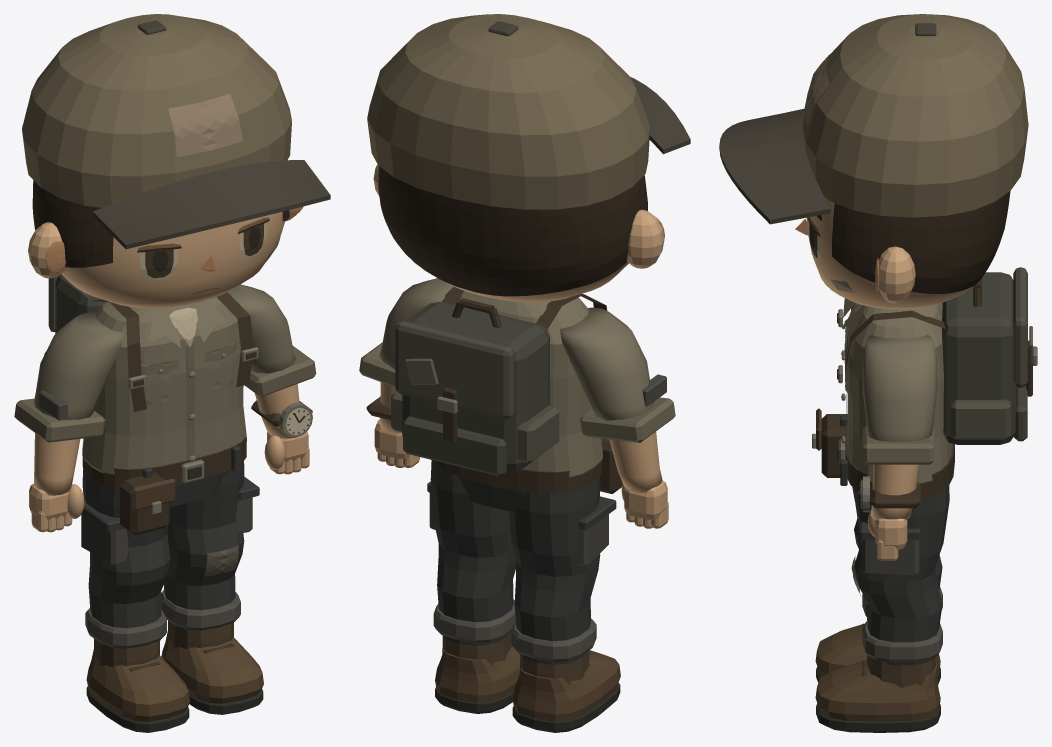
Rendered from CompactSurvivor.glb.
3 views of the same model, side by side, from view 1: azimuth 30°, elevation 25°; view 2: azimuth 150°, elevation 25°; view 3: azimuth 270°, elevation 25° (orthographic). The views are drawn at different scales.
Parts seen in each view (by area): view 1: Compact_Cap, Compact_Shirt, Compact_Trousers, Compact_Boots, Compact_Head, Compact_Backpack, Compact_Hair, Compact_Hands, Compact_Body, Compact_BeltPouch, Compact_Belt, Compact_FaceDetails (+1 smaller); view 2: Compact_Cap, Compact_Trousers, Compact_Backpack, Compact_Hair, Compact_Shirt, Compact_Boots, Compact_Head, Compact_Hands, Compact_Body, Compact_Belt, Compact_BeltPouch; view 3: Compact_Cap, Compact_Shirt, Compact_Backpack, Compact_Trousers, Compact_Hair, Compact_Boots, Compact_Head, Compact_Body, Compact_BeltPouch, Compact_Belt, Compact_Hands, Compact_Watch (+1 smaller).
Boxes of the visible parts, left/top/right/bottom form: Compact_Cap: left=22, top=14, right=330, bottom=249; Compact_Shirt: left=14, top=284, right=316, bottom=474; Compact_Trousers: left=81, top=445, right=259, bottom=648; Compact_Boots: left=86, top=621, right=263, bottom=732; Compact_Head: left=28, top=206, right=303, bottom=308; Compact_Backpack: left=44, top=274, right=258, bottom=412; Compact_Hair: left=32, top=180, right=289, bottom=267; Compact_Hands: left=29, top=431, right=309, bottom=532; Compact_Body: left=34, top=384, right=299, bottom=495; Compact_BeltPouch: left=120, top=473, right=175, bottom=535; Compact_Belt: left=82, top=436, right=246, bottom=489; Compact_FaceDetails: left=137, top=217, right=280, bottom=294; Compact_Cap: left=367, top=14, right=690, bottom=209; Compact_Trousers: left=427, top=461, right=616, bottom=664; Compact_Backpack: left=391, top=286, right=607, bottom=476; Compact_Hair: left=378, top=166, right=647, bottom=296; Compact_Shirt: left=359, top=278, right=675, bottom=477; Compact_Boots: left=435, top=632, right=620, bottom=732; Compact_Head: left=373, top=164, right=664, bottom=302; Compact_Hands: left=374, top=419, right=668, bottom=528; Compact_Body: left=379, top=382, right=662, bottom=492; Compact_Belt: left=431, top=446, right=602, bottom=494; Compact_BeltPouch: left=600, top=438, right=622, bottom=493; Compact_Cap: left=719, top=14, right=1028, bottom=224; Compact_Shirt: left=841, top=298, right=952, bottom=484; Compact_Backpack: left=837, top=267, right=1037, bottom=444; Compact_Trousers: left=840, top=415, right=949, bottom=665; Compact_Hair: left=832, top=191, right=1010, bottom=293; Compact_Boots: left=815, top=618, right=940, bottom=732; Compact_Head: left=806, top=197, right=971, bottom=308; Compact_Body: left=871, top=464, right=919, bottom=520; Compact_BeltPouch: left=812, top=408, right=847, bottom=477; Compact_Belt: left=837, top=426, right=954, bottom=497; Compact_Hands: left=867, top=509, right=907, bottom=560; Compact_Watch: left=858, top=476, right=920, bottom=512.
Size of the model in its own units: 0.6787 by 1.56 by 0.6714.
